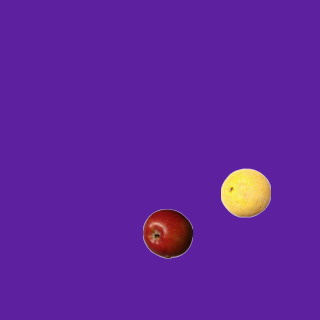Apple Braeburn: (142, 208, 192, 258)
Cantaloupe 1: (220, 167, 270, 217)
